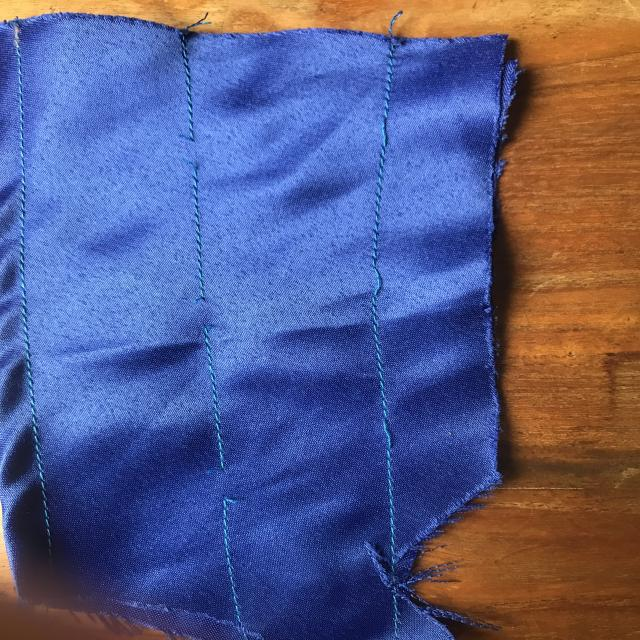broken: (172, 281, 238, 349), (160, 117, 221, 187), (202, 452, 258, 512)
skip: (350, 402, 416, 462), (372, 92, 409, 161), (366, 246, 389, 314)
